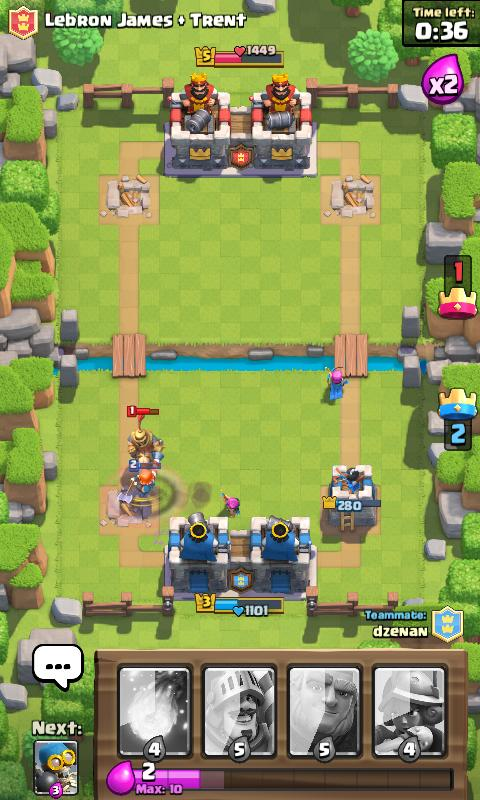ally_archer: (323, 365, 349, 400), (219, 488, 242, 517)
ally_valkyrie: (116, 458, 161, 505)
enemy_prince: (123, 404, 166, 468)
